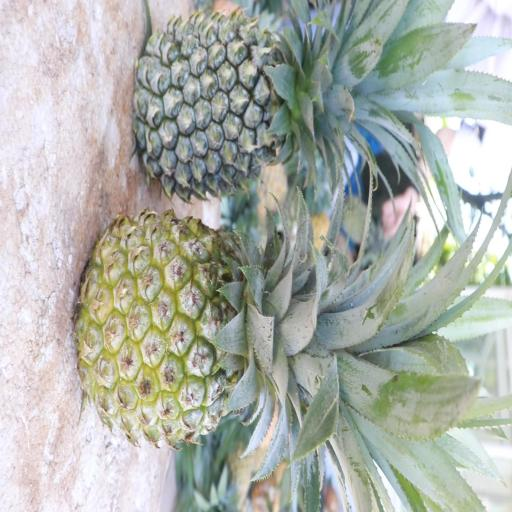------------------------------: (72, 208, 364, 456)
